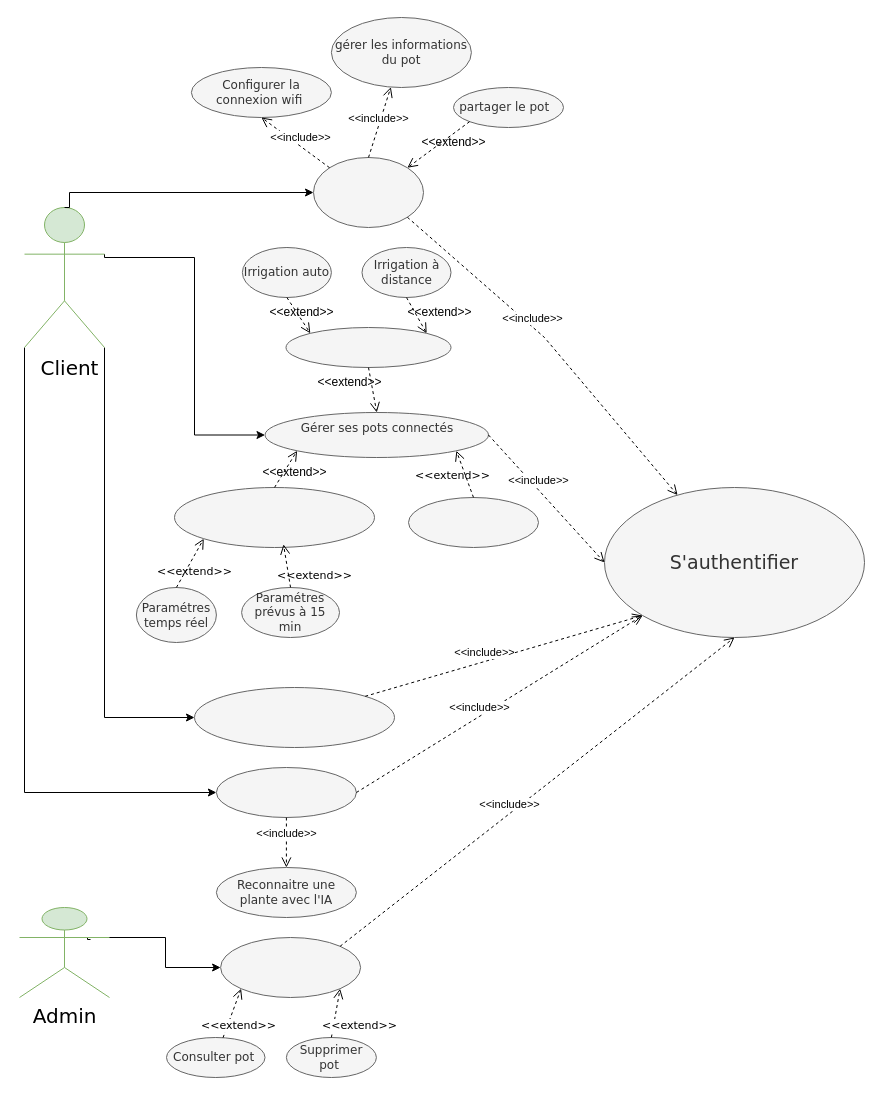
This 882x1095 diagram has some shape labels left out. Here are the shapes that lost their labels. From the top down, the centre of each, then its label:
At (x=368, y=192): "Configurer ses pots connectés".
At (x=368, y=347): "Déclencher l'irrigation".
At (x=274, y=517): "Consulter les paramétres de la plante".
At (x=473, y=522): "Recevoir alertes et recommendations".
At (x=294, y=717): "Consulter les tableaux de bord historiques".
At (x=285, y=792): "Consulter les besoins d'une plante".
At (x=290, y=967): "Gérer les pots connectées coté admin".
